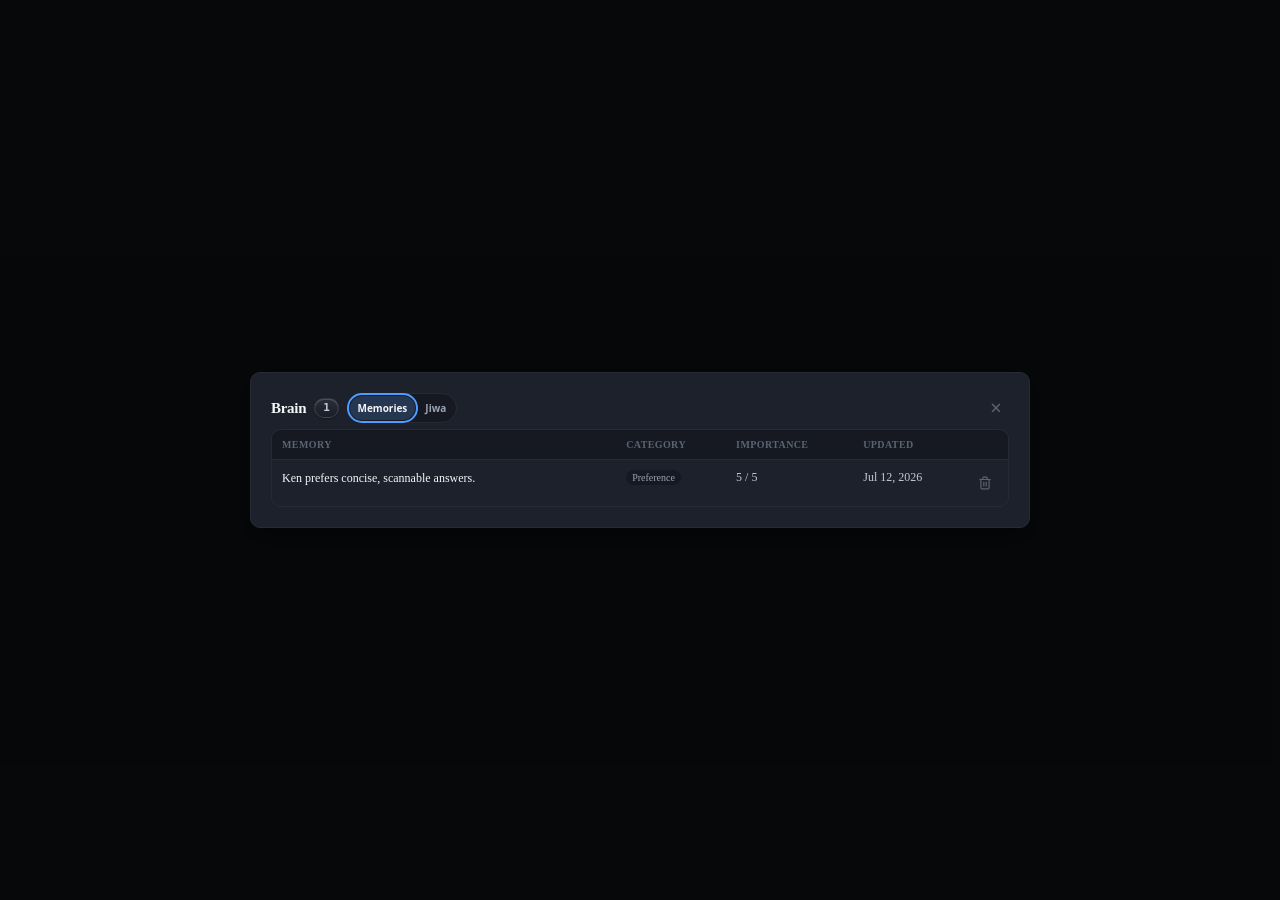
Test case: MemoryModal › deletes exactly one entry from the active table
Check: the text "Ken prefers concise, scannable answers." is shown, box left=272, top=460, right=616, bottom=506
What coordinates should you click on to do the following:
click the tab "Jiwa"
I would click on:
 (436, 408)
Its box is left=417, top=396, right=454, bottom=420.
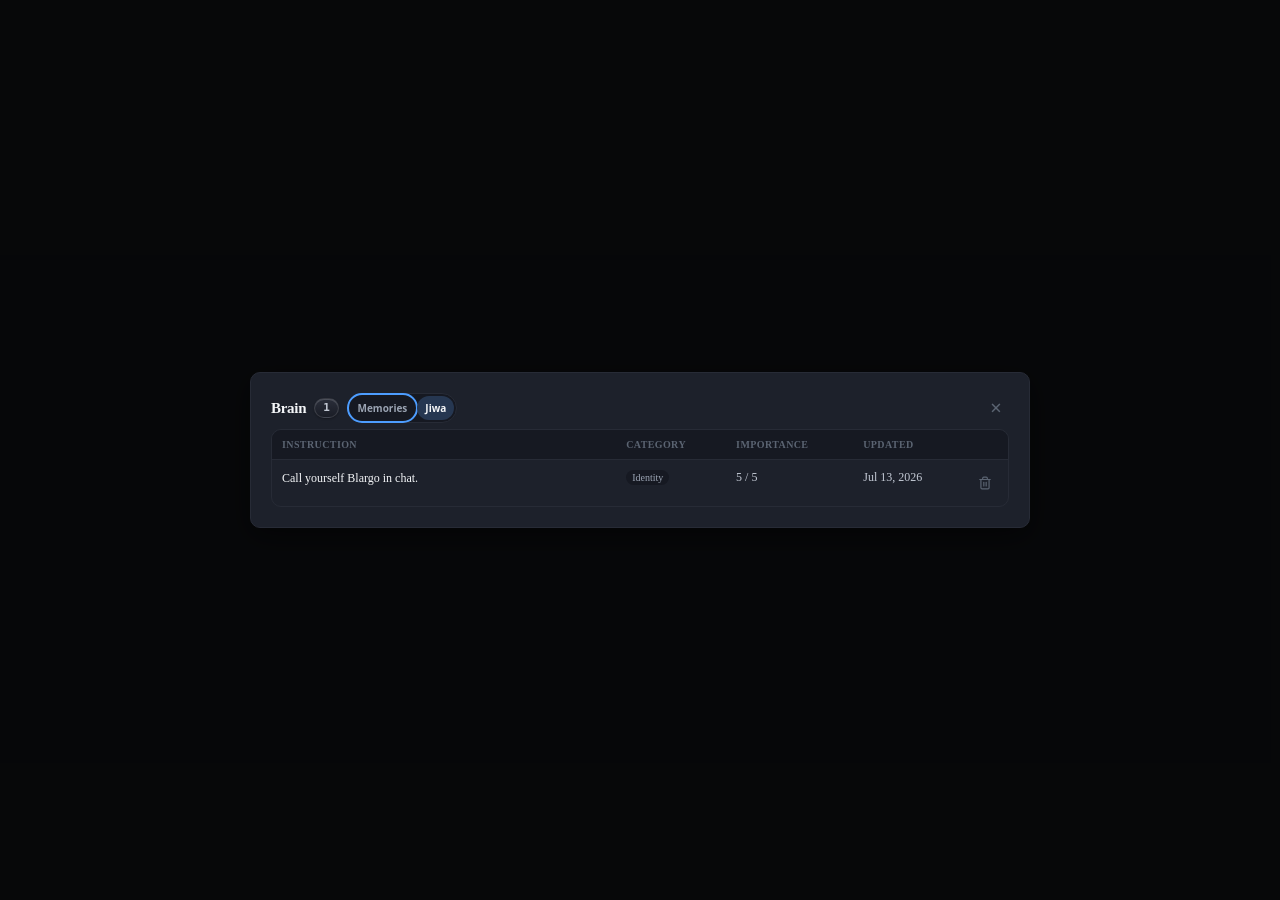
What coordinates should you click on to do the following:
click the button named "Delete Jiwa instruction: Call yourself Blargo in chat."
I would click on:
 (985, 483)
Its box is left=972, top=470, right=998, bottom=496.
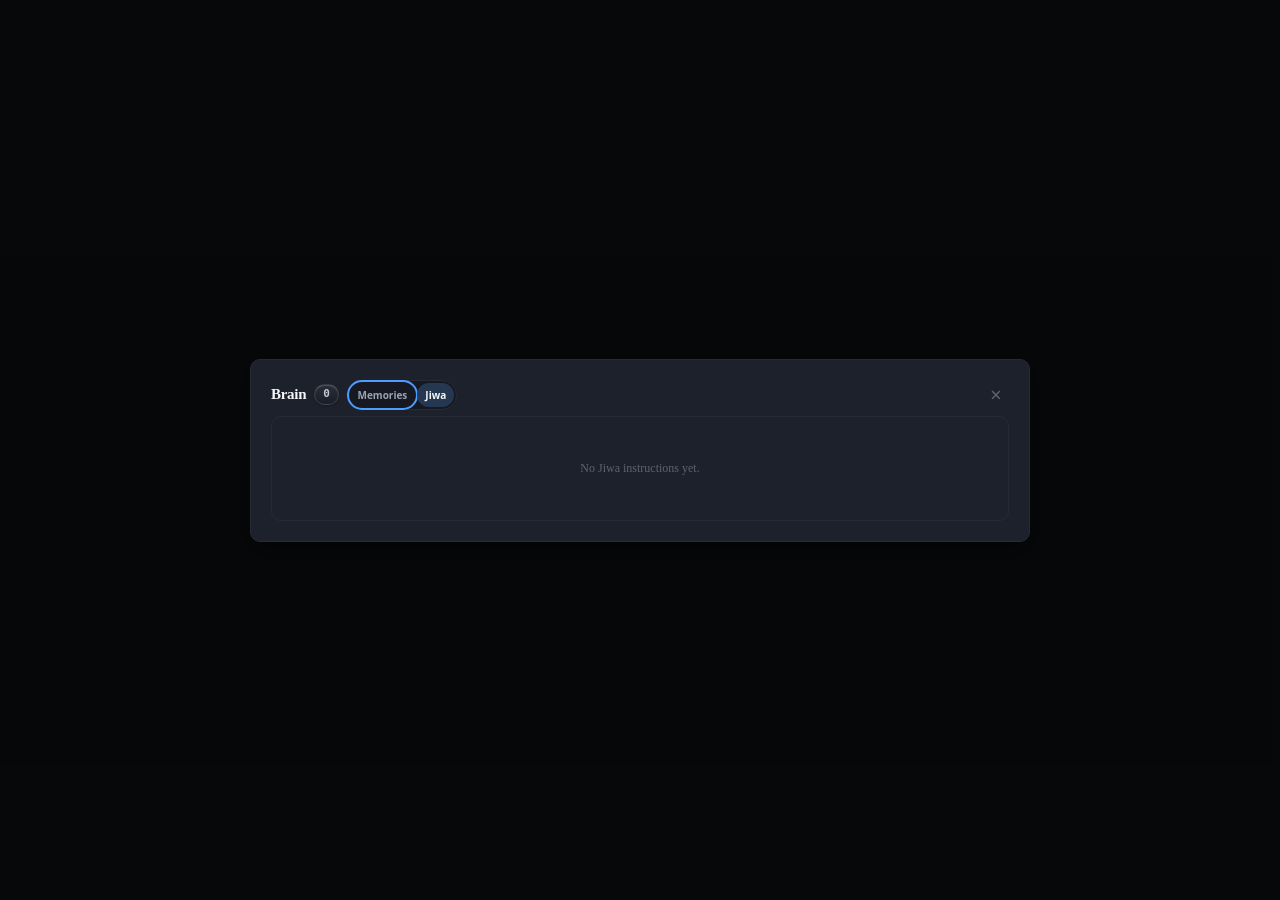
Check: the text "No Jiwa instructions yet." is shown, box left=580, top=460, right=700, bottom=474
Check: the text with class "badge" reads "0", box left=323, top=387, right=330, bottom=400
